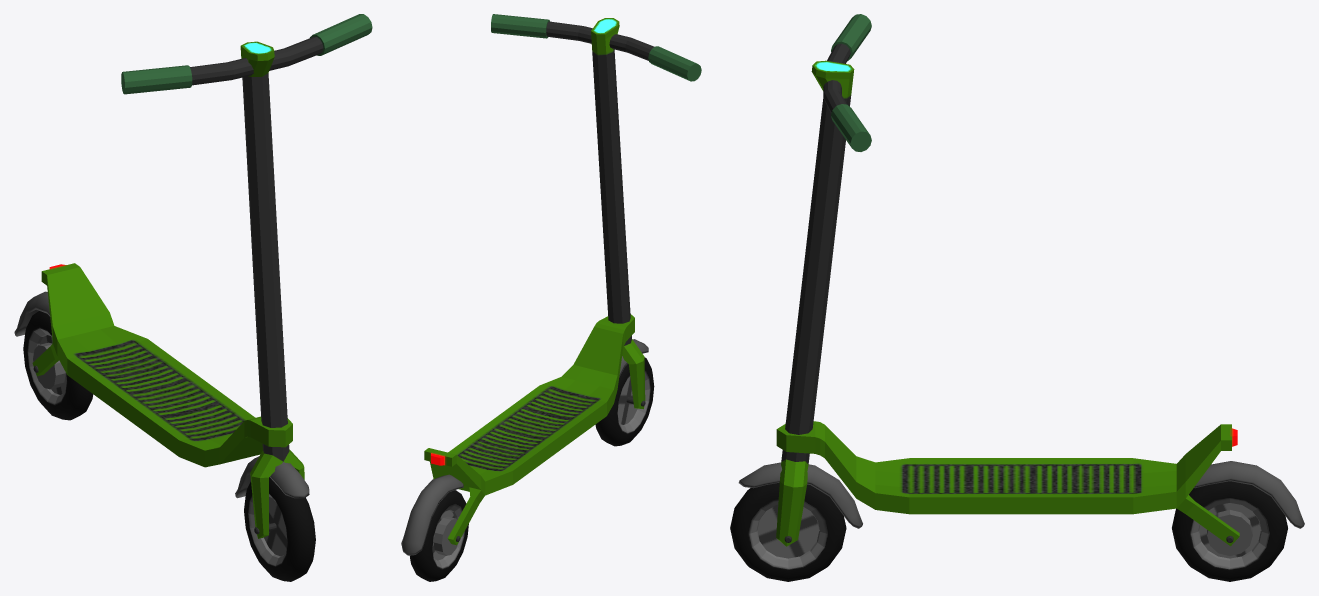
File: scooter-low-poly-3a02fb.glb
3 views of the same model, side by side, from view 1: azimuth 30°, elevation 25°; view 2: azimuth 150°, elevation 25°; view 3: azimuth 270°, elevation 25° (orthographic). The views are drawn at different scales.
Parts seen in each view (by area): view 1: PropMesh; view 2: PropMesh; view 3: PropMesh.
Boxes of the visible parts, left/top/right/bottom form: PropMesh: left=14, top=14, right=372, bottom=581; PropMesh: left=401, top=14, right=701, bottom=581; PropMesh: left=730, top=14, right=1304, bottom=581.
Size of the model in its own units: 0.603 by 1.2 by 1.21.
1 material, 1 textured.
